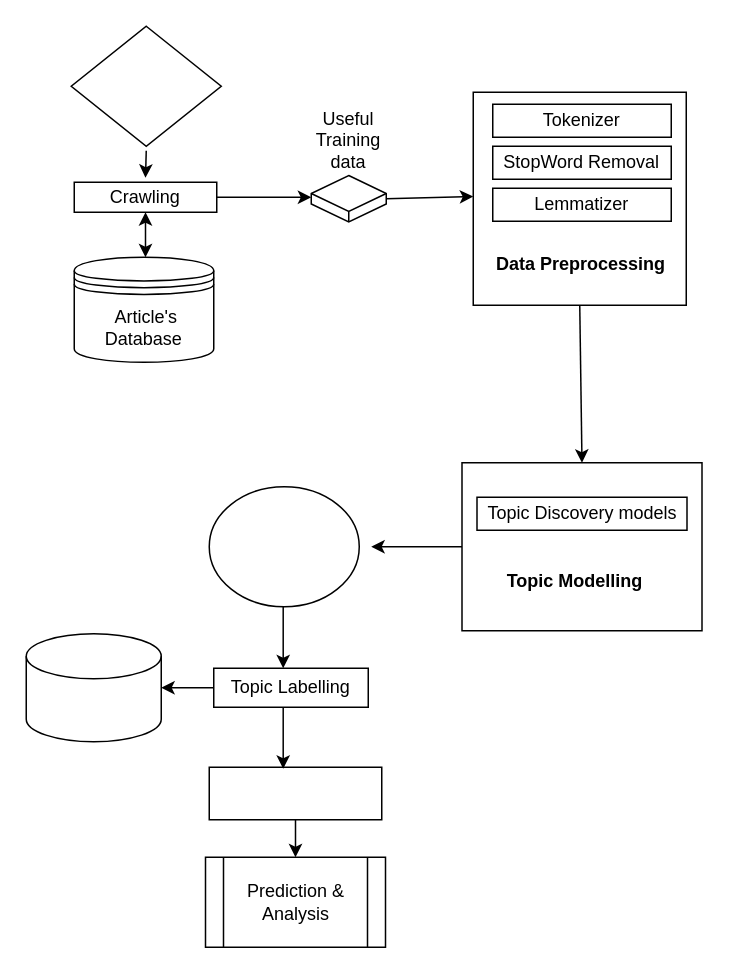
Image size: 729x974. Some labels were removed from this diagram. The shapes that lost their labels are listed below. From the top down, each one's centre as x and y in pixels, then its label:
At (x=145, y=85): "Search query".
At (x=283, y=546): "Word Clusters - Topics".
At (x=93, y=687): "Domain Knowledge".
At (x=295, y=793): "Forecasting Model".
